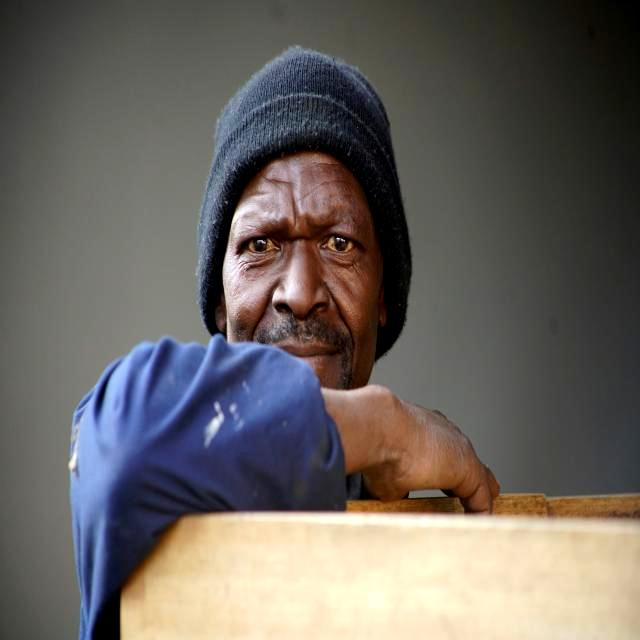no_hard_hat: (197, 47, 412, 336)
person: (70, 48, 499, 639)
